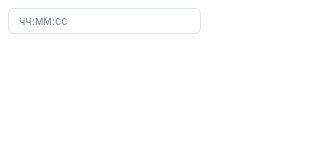
Test: TimeField › показывает невалидный черновик 240000, сохраняя пустое значение
Type "240000" into the field named "Время" at (104, 21), box [17,8,192,34]
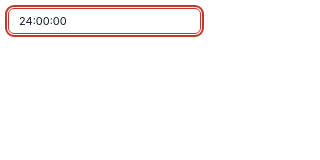
Check: the field named "Время" holds "24:00:00", box [17,8,192,34]
